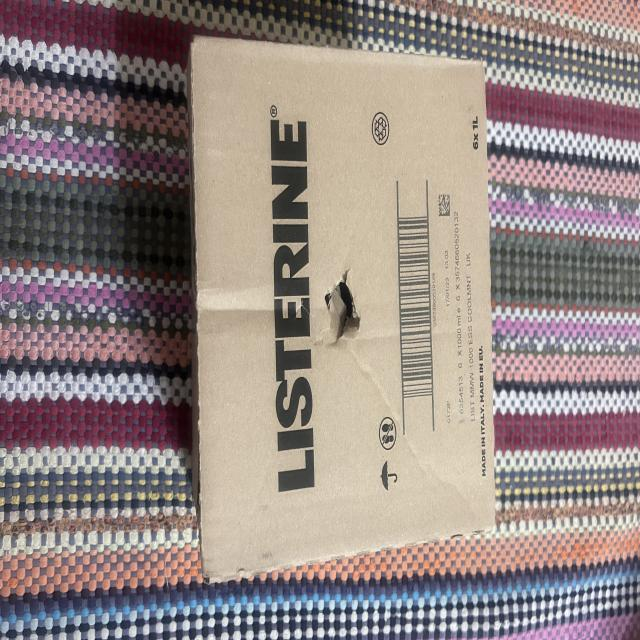damaged: (189, 28, 496, 576), (312, 260, 366, 356)
